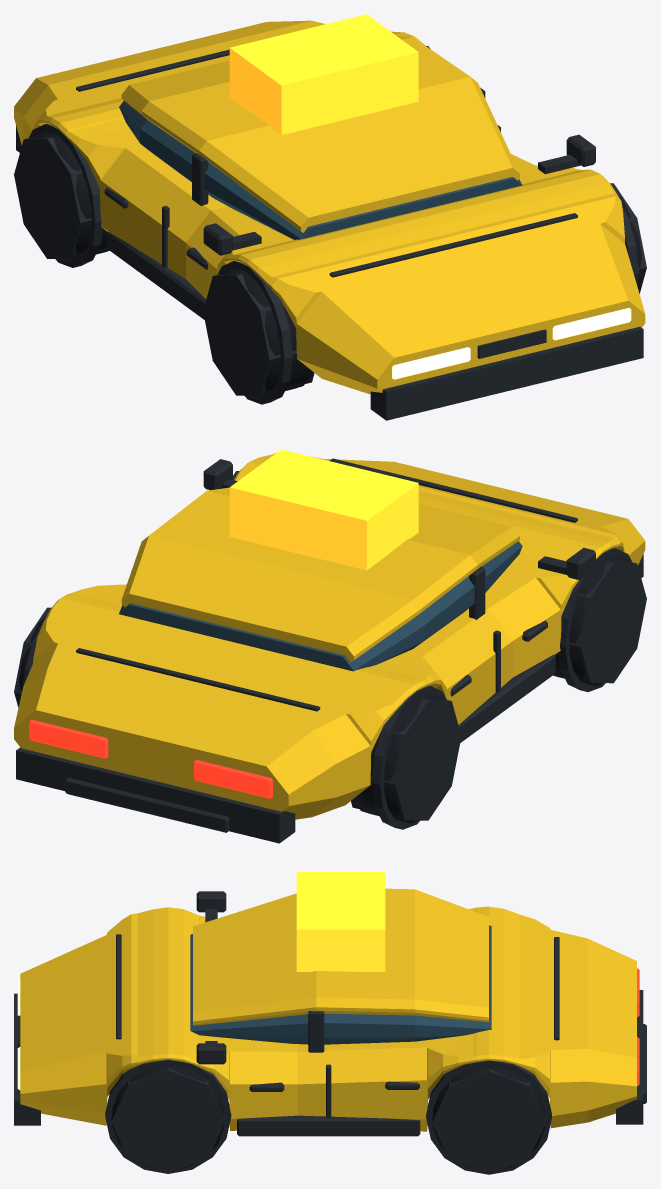
Rendered from sports.glb.
3 renders of one model, top to bottom at view 1: azimuth 30°, elevation 25°; view 2: azimuth 150°, elevation 25°; view 3: azimuth 270°, elevation 25°, orthographic. The views are drawn at different scales.
Parts seen in each view (by area): view 1: sports_body, sports_trim, sports_fleet_trim, sports_topper, sports_glass, sports_headlights, sports_front_left_tyre, sports_rear_left_tyre; view 2: sports_body, sports_fleet_trim, sports_topper, sports_trim, sports_glass, sports_taillights, sports_rear_left_tyre, sports_front_left_tyre; view 3: sports_body, sports_fleet_trim, sports_trim, sports_topper, sports_glass, sports_front_right_tyre, sports_rear_right_tyre.
Part boxes in pixels (x1,y1,x2,y2): sports_body: (14,20,645,394); sports_trim: (17,49,640,416); sports_fleet_trim: (14,46,646,420); sports_topper: (229,14,418,135); sports_glass: (119,101,522,239); sports_headlights: (392,308,631,379); sports_front_left_tyre: (220,268,312,398); sports_rear_left_tyre: (31,131,109,261); sports_body: (14,452,645,819); sports_fleet_trim: (14,471,646,843); sports_topper: (229,449,418,570); sports_trim: (22,458,641,838); sports_glass: (119,541,522,671); sports_taillights: (29,719,272,798); sports_rear_left_tyre: (353,693,444,823); sports_front_left_tyre: (553,555,629,686); sports_body: (20,888,636,1131); sports_fleet_trim: (14,990,643,1173); sports_trim: (18,891,646,1174); sports_topper: (296,872,385,971); sports_glass: (190,925,491,1044); sports_front_right_tyre: (112,1065,223,1168); sports_rear_right_tyre: (433,1066,544,1169).
Size of the model in its own units: 3.06 by 1.78 by 5.13.
